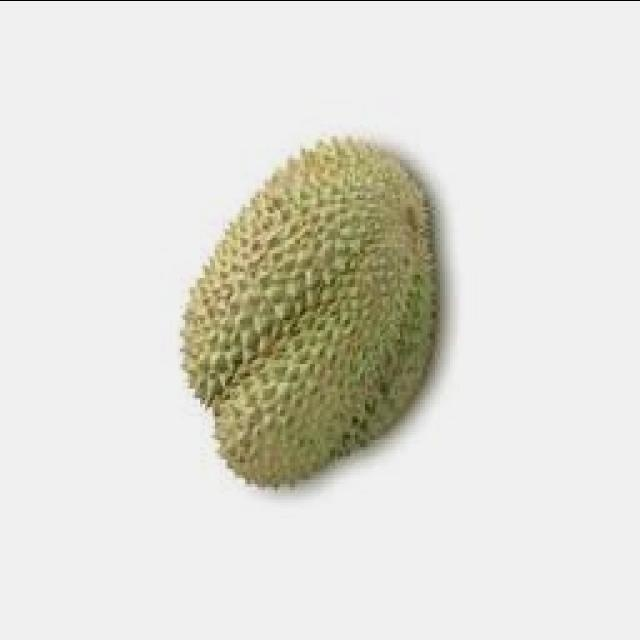agrume: (157, 114, 467, 511)
